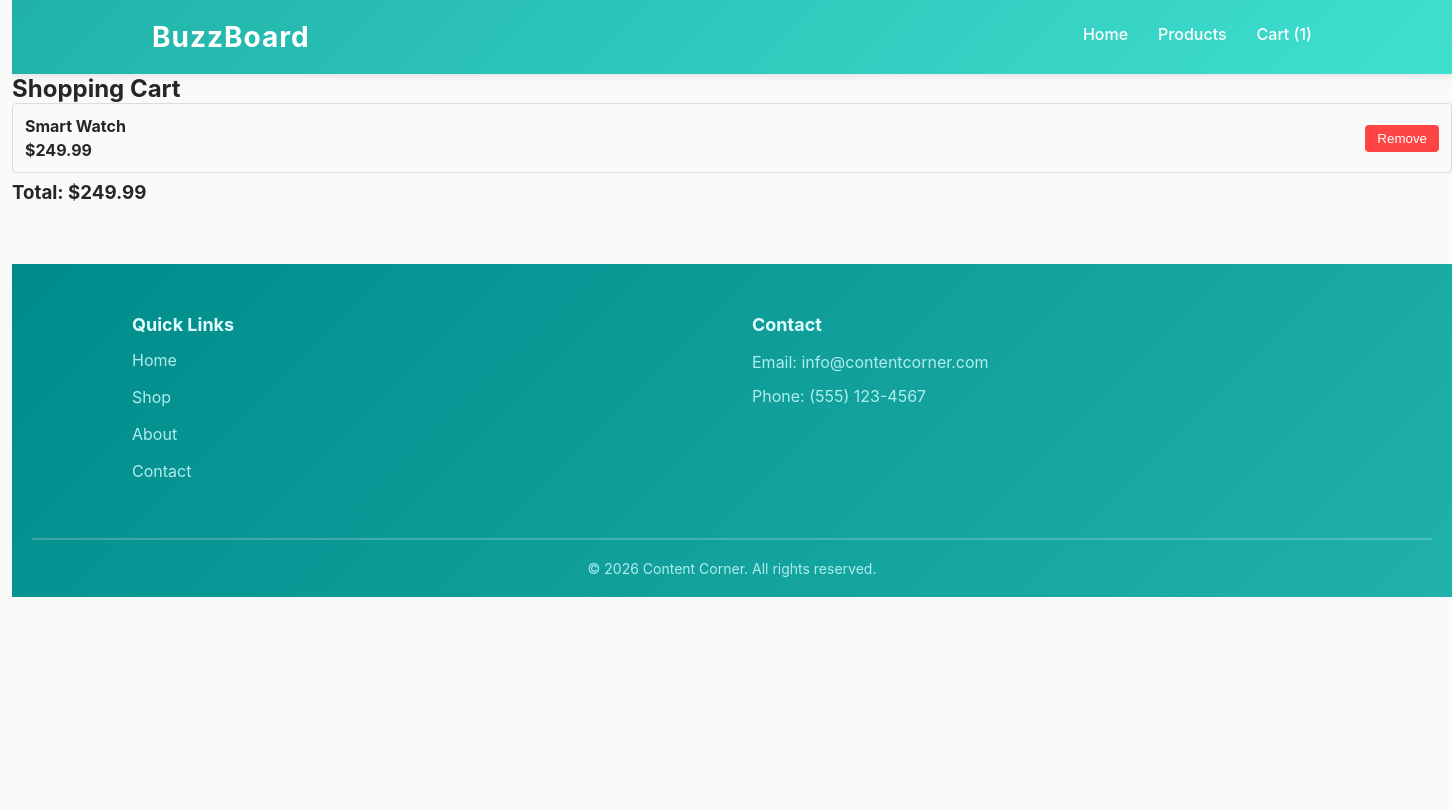
Test case: App localStorage persistence › saves the updated cart when an item is removed
Click the button "Remove": x=1402, y=138 left=1365, top=124, right=1439, bottom=152
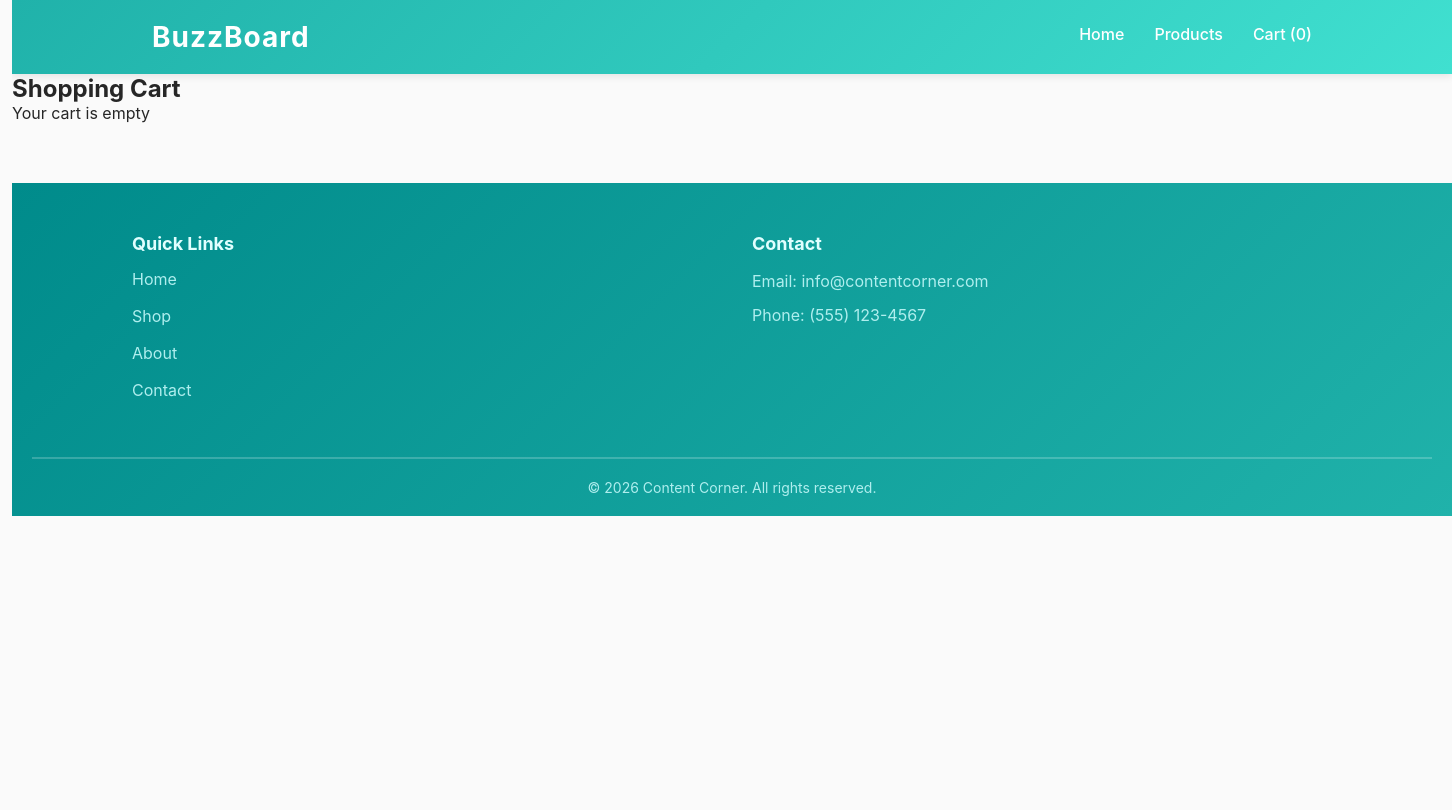
Expected: the text "Your cart is empty" is shown, left=12, top=103, right=150, bottom=123
